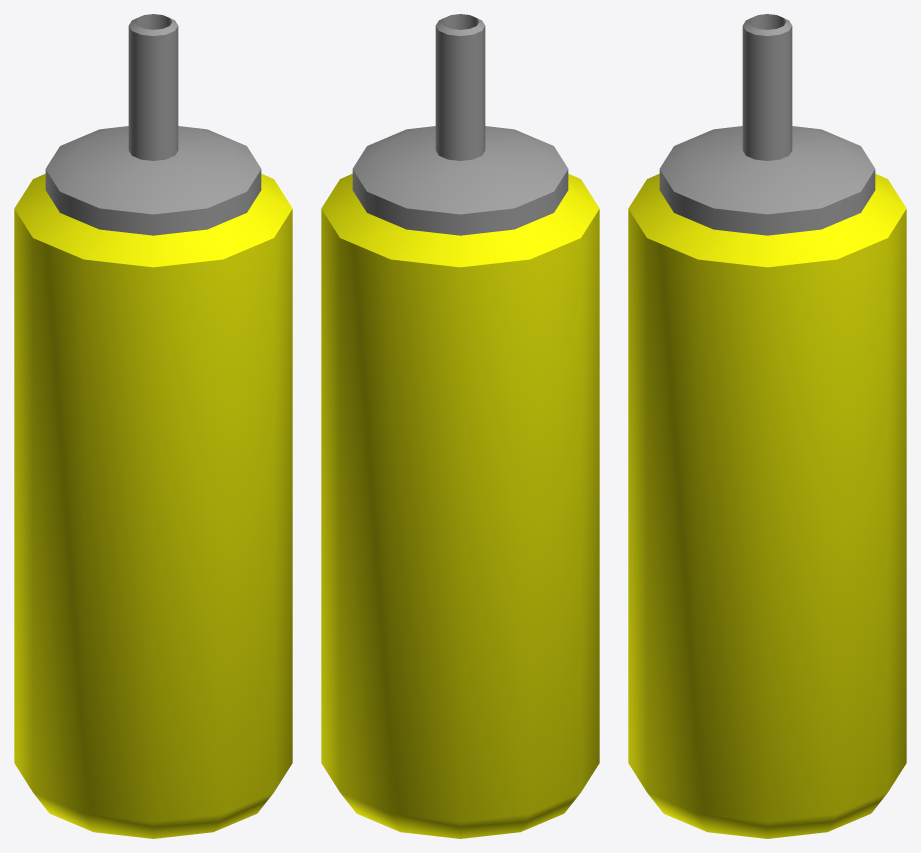
File: Bottle04.fbx
3 renders of one model, left to right at view 1: azimuth 30°, elevation 25°; view 2: azimuth 150°, elevation 25°; view 3: azimuth 270°, elevation 25°, orthographic.
Parts seen in each view (by area): view 1: Bottle04; view 2: Bottle04; view 3: Bottle04.
Boxes of the visible parts, x1=… form: Bottle04: x1=14, y1=14, x2=292, y2=838; Bottle04: x1=321, y1=14, x2=599, y2=838; Bottle04: x1=628, y1=14, x2=906, y2=838.
Bounding box in the file's own units: 7.26 × 22.07 × 7.26.
